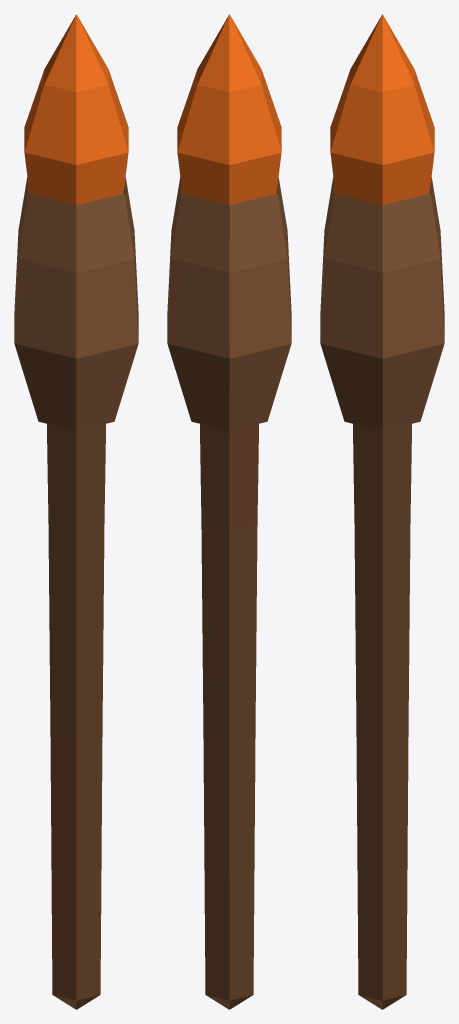
The model's file is tool_torch.obj.
3 views of the same model, side by side, from view 1: azimuth 90°, elevation 25°; view 2: azimuth 210°, elevation 25°; view 3: azimuth 270°, elevation 25° (orthographic).
Parts seen in each view (by area): view 1: tool_torch; view 2: tool_torch; view 3: tool_torch.
Part boxes in pixels (left/top/right/bottom): tool_torch: left=14, top=14, right=138, bottom=1009; tool_torch: left=167, top=14, right=291, bottom=1009; tool_torch: left=320, top=14, right=444, bottom=1009.
Bounding box in the file's own units: 0.124 × 0.95 × 0.1074.
